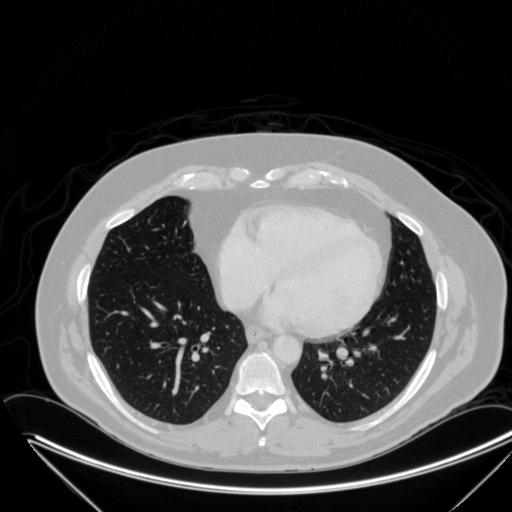nodule: (333, 344, 351, 362)
